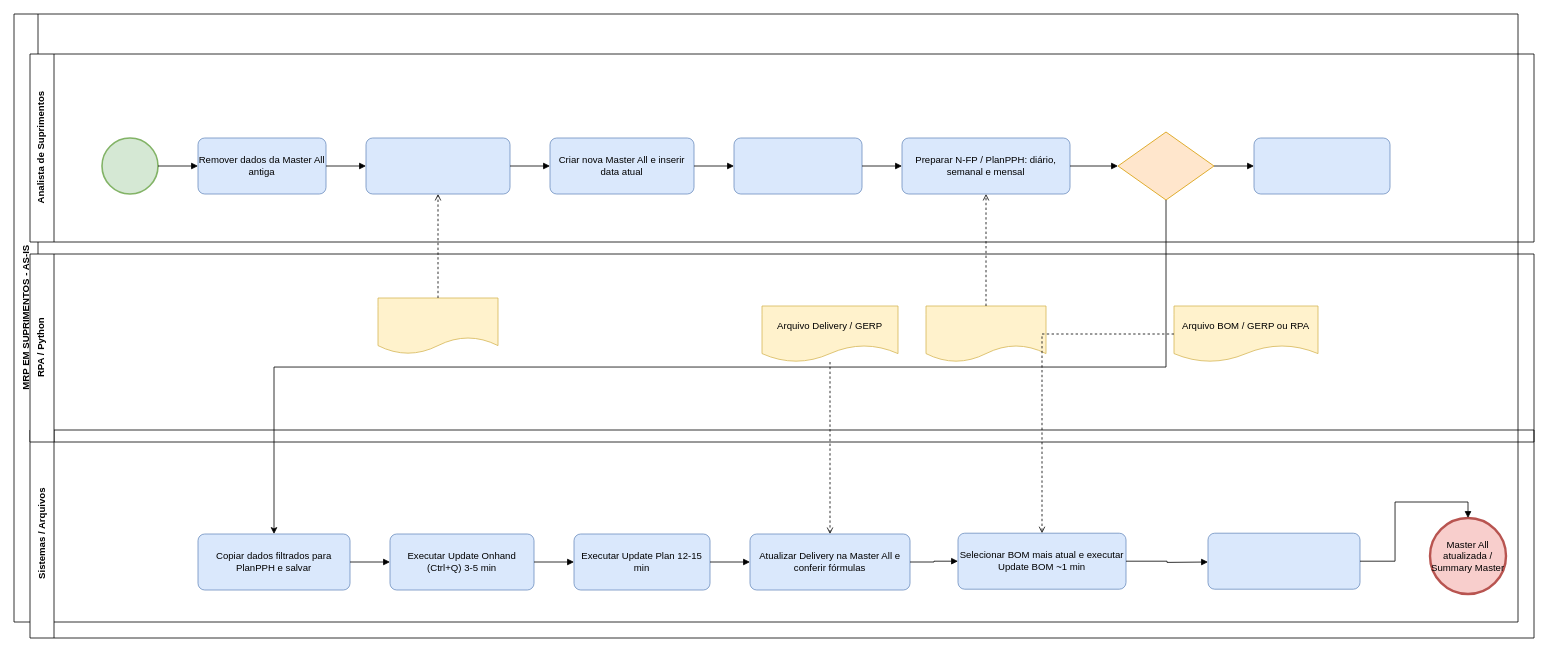
Image size: 1548x652. Some labels were removed from this diagram. Here are the shapes that lost their labels. From the top down, the centre of each, then its label:
At (129,165): "Início 07h30".
At (437,165): "Abrir Onhand recebido pelo RPA e copiar dados".
At (797,165): "Colar dados na aba Onhand".
At (1165,165): "Dados filtrados e consistentes?".
At (1321,165): "Corrigir filtros / campos em branco".
At (437,325): "Arquivo Onhand".
At (985,333): "Resultado N-FP".
At (1283,560): "Formatar Summary Master ~25 min".
